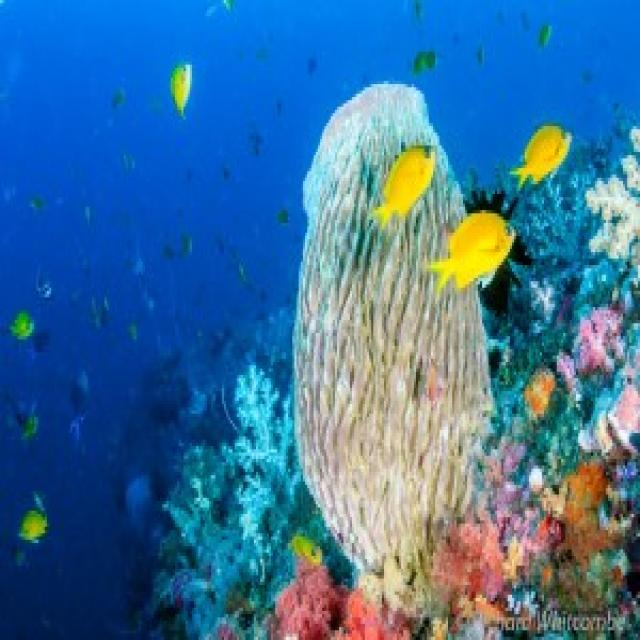Bleached: (223, 363, 300, 580), (590, 156, 639, 263), (172, 476, 208, 528)
Healthy: (293, 85, 492, 570), (270, 444, 637, 638), (579, 308, 622, 373)
